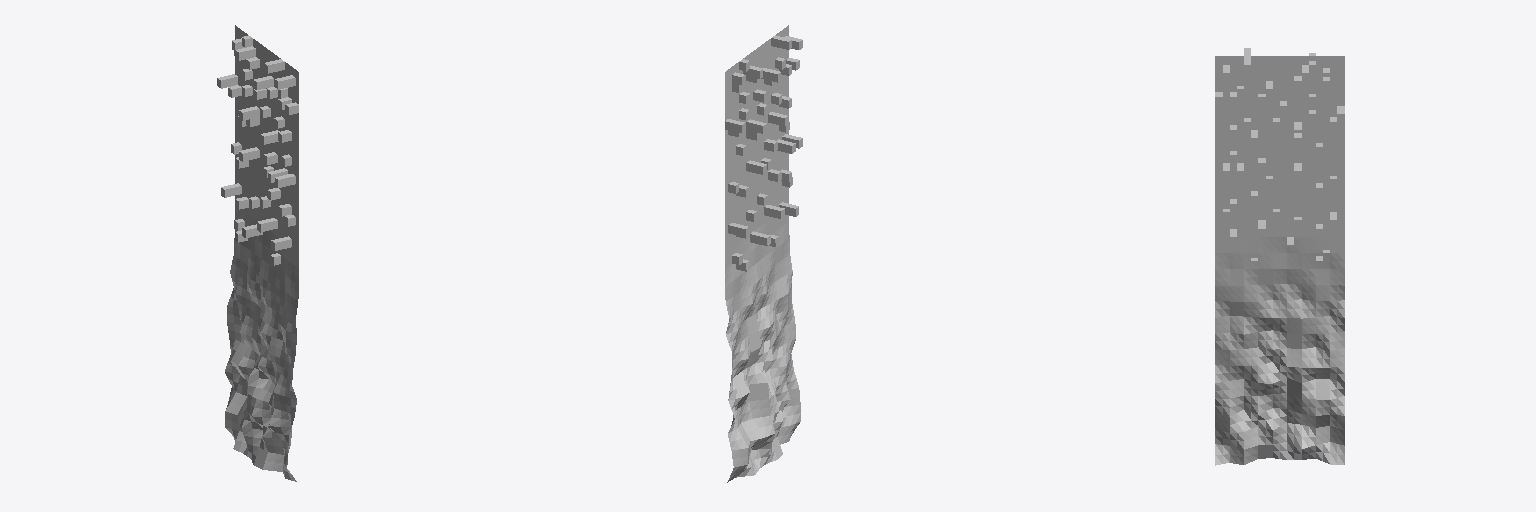
The model's file is land.obj.
3 renders of one model, left to right at view 1: azimuth 30°, elevation 25°; view 2: azimuth 150°, elevation 25°; view 3: azimuth 270°, elevation 25°, orthographic.
Parts seen in each view (by area): view 1: Cube; view 2: Cube; view 3: Cube.
Boxes of the visible parts, x1,y1,x2,y2 form: Cube: [217, 25, 298, 481]; Cube: [725, 25, 802, 482]; Cube: [1215, 48, 1344, 465].
Bounding box in the file's own units: 36.08 × 646 × 185.